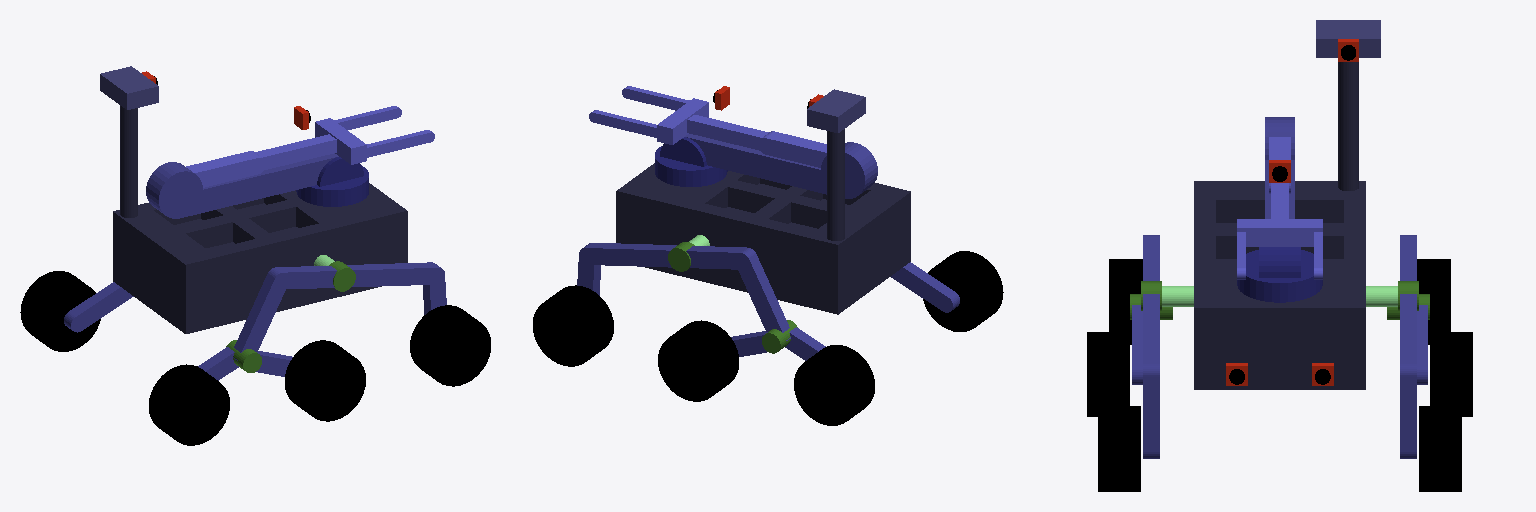
--- Render facts (derived) ---
The picture shows the robot from 3 angles, left to right: view 1: azimuth 30°, elevation 25°; view 2: azimuth 150°, elevation 25°; view 3: azimuth 270°, elevation 25°; orthographic projection.
Robot: rover — 40 links, 39 joints (9 revolute, 6 continuous, 2 prismatic, 22 fixed); root link base_link; default pose: all joints at 0.
Links seen in each view (by area): view 1: main_body, link1, wheel_mr, wheel_fr, wheel_br, wheel_bl, rocker_r_link1, link0, tower_yaw, tower_pitch, rocker_r_link2, link2 (+10 smaller); view 2: main_body, wheel_fl, wheel_bl, wheel_ml, link1, wheel_br, rocker_l_link1, link0, tower_yaw, tower_pitch, rocker_l_link2, link2 (+10 smaller); view 3: main_body, link0, wheel_fl, wheel_fr, wheel_ml, wheel_mr, tower_yaw, rocker_l_link1, rocker_r_link1, link4, tower_pitch, wheel_bl (+9 smaller).
Boxes of the visible links, x1,y1,x2,y2 form: main_body: [113, 183, 407, 333]; link1: [146, 153, 338, 218]; wheel_mr: [285, 340, 365, 421]; wheel_fr: [410, 305, 490, 386]; wheel_br: [149, 364, 229, 445]; wheel_bl: [20, 271, 100, 351]; rocker_r_link1: [268, 262, 444, 289]; link0: [296, 157, 368, 206]; tower_yaw: [120, 106, 137, 217]; tower_pitch: [100, 66, 158, 109]; rocker_r_link2: [233, 274, 285, 360]; link2: [186, 151, 265, 187]; main_body: [616, 163, 910, 314]; wheel_fl: [533, 285, 613, 366]; wheel_bl: [794, 345, 874, 425]; wheel_ml: [658, 320, 738, 401]; link1: [685, 134, 877, 198]; wheel_br: [923, 251, 1003, 331]; rocker_l_link1: [579, 243, 755, 269]; link0: [655, 137, 727, 186]; tower_yaw: [827, 129, 844, 240]; tower_pitch: [807, 89, 865, 132]; rocker_l_link2: [738, 254, 790, 340]; link2: [758, 131, 826, 167]; main_body: [1194, 181, 1365, 389]; link0: [1237, 247, 1322, 302]; wheel_fl: [1419, 406, 1461, 491]; wheel_fr: [1098, 406, 1140, 491]; wheel_ml: [1430, 332, 1472, 416]; wheel_mr: [1087, 332, 1129, 416]; tower_yaw: [1338, 62, 1358, 190]; rocker_l_link1: [1400, 235, 1416, 376]; rocker_r_link1: [1143, 235, 1159, 376]; link4: [1237, 219, 1322, 246]; tower_pitch: [1316, 20, 1380, 57]; wheel_bl: [1417, 259, 1450, 344].
Bounding box of the posed robot: 1.02 × 0.9 × 0.85 m (x, y, z).
Geometry: primitives only (box / cylinder / sphere), no mesh files.

URDF robot description (rover):
<?xml version="1.0" ?>
<!-- =================================================================================== -->
<!-- |    This document was autogenerated by xacro from rover.xacro                    | -->
<!-- |    EDITING THIS FILE BY HAND IS NOT RECOMMENDED                                 | -->
<!-- =================================================================================== -->
<robot name="rover" xmlns:xacro="http://www.ros.org/wiki/xacro">
  <gazebo>
    <plugin filename="libgazebo_ros_pkgs.so" name="gazebo_ros_control">
      <robotNamespace>rover</robotNamespace>
    </plugin>
  </gazebo>
  <!-- LINKS -->
  <!-- TODO NO SUPPORT FOR CLOSED CHAINSD UNTIL URDF 2.0 TODO -->
  <!--xacro:include filename="rocker-bogie/differential.xacro"/-->
  <!--xacro:property name="h_bogie" value=".100"/-->
  <!--xacro:property name="l_bogie" value=".305"/-->
  <!--xacro:property name="l_wheel_m" value=".160"/>
    <xacro:property name="l_wheel_b" value=".160"/-->
  <!-- DUMMY LINK -->
  <link name="base_link">
        </link>
  <joint name="base_jonit" type="fixed">
    <parent link="base_link"/>
    <child link="suspension_beam"/>
  </joint>
  <!-- MAIN LINK -->
  <link name="suspension_beam">
    <visual>
      <origin rpy="1.57075 0 0" xyz="0 0 0"/>
      <geometry>
        <cylinder length="0.6" radius="0.025"/>
      </geometry>
      <material name="light_green">
        <color rgba=".6 .9 .6 1"/>
      </material>
    </visual>
    <collision>
      <origin rpy="1.57075 0 0" xyz="0 0 0"/>
      <geometry>
        <cylinder length="0.6" radius="0.025"/>
      </geometry>
    </collision>
    <inertial>
      <mass value="3"/>
      <inertia ixx="0.005" ixy="0" ixz="0" iyy="0.005" iyz="0" izz="0.005"/>
    </inertial>
  </link>
  <gazebo reference="suspension_beam">
    <mu1> .2 </mu1>
    <mu2> .2 </mu2>
    <material> Gazebo/Gray </material>
    <selfCollide> false </selfCollide>
  </gazebo>
  <link name="rocker_l_bearing">
    <visual>
      <origin rpy="1.57075 0 0"/>
      <geometry>
        <cylinder length="0.05" radius="0.035"/>
      </geometry>
      <material name="dark_green">
        <color rgba=".3 .5 .2 1"/>
      </material>
    </visual>
    <collision>
      <origin rpy="1.57075 0 0"/>
      <geometry>
        <cylinder length="0.05" radius="0.035"/>
      </geometry>
    </collision>
    <inertial>
      <mass value="3"/>
      <inertia ixx="0.005" ixy="0" ixz="0" iyy="0.005" iyz="0" izz="0.005"/>
    </inertial>
  </link>
  <!--joint name="${name}_joint" type="revolute">
                <parent link="${parent}"/>
                <child link="${name}"/>
                <origin rpy="0 0 0" xyz="${x} ${y} ${z}"/>
                <axis xyz="0 1 0"/>
                <limit effort="10000" velocity="1" lower="-0.5" upper="0.5"/>
                <dynamics damping="2" friction="0"/>
            </joint-->
  <joint name="rocker_l_bearing_joint" type="fixed">
    <parent link="suspension_beam"/>
    <child link="rocker_l_bearing"/>
    <origin rpy="0 0 0" xyz="0 0.3 0"/>
  </joint>
  <gazebo reference="rocker_l_bearing">
    <mu1> .2 </mu1>
    <mu2> .2 </mu2>
    <material> Gazebo/Gray </material>
    <selfCollide> False </selfCollide>
  </gazebo>
  <!--transmission name="${name}_transmission">
                <type>transmission_interface/SimpleTransmission</type>
                <joint name="${name}_joint">
                    <hardwareInterface>EffortJointInterface</hardwareInterface>
                </joint>
                <actuator name="${name}_motor">
                    <hardwareInterface>EffortJointInterface</hardwareInterface>
                    <mechanicalReduction>1</mechanicalReduction>
                </actuator>
            </transmission-->
  <link name="rocker_l_link1">
    <visual>
      <origin rpy="0 0 0" xyz="0.05 0.0 0.0"/>
      <geometry>
        <box size="0.5 0.04 0.05"/>
      </geometry>
      <material name="light_blue">
        <color rgba=".3 .3 .6 1"/>
      </material>
    </visual>
    <visual>
      <origin rpy="1.57075 0 0" xyz="-0.2 0.0 0.0"/>
      <geometry>
        <cylinder length="0.04" radius="0.025"/>
      </geometry>
      <material name="light_blue">
        <color rgba=".3 .3 .6 1"/>
      </material>
    </visual>
    <visual>
      <origin rpy="1.57075 0 0" xyz="0.3 0.0 0.0"/>
      <geometry>
        <cylinder length="0.04" radius="0.025"/>
      </geometry>
      <material name="light_blue">
        <color rgba=".3 .3 .6 1"/>
      </material>
    </visual>
    <collision>
      <origin rpy="0 0 0" xyz="0.05 0.0 0.0"/>
      <geometry>
        <box size="0.5 0.04 0.05"/>
      </geometry>
    </collision>
    <collision>
      <origin rpy="1.57075 0 0" xyz="-0.2 0.0 0.0"/>
      <geometry>
        <cylinder length="0.04" radius="0.025"/>
      </geometry>
    </collision>
    <collision>
      <origin rpy="1.57075 0 0" xyz="0.3 0.0 0.0"/>
      <geometry>
        <cylinder length="0.04" radius="0.025"/>
      </geometry>
    </collision>
    <inertial>
      <origin rpy="0 0 0" xyz="0.05 0.0 0.0"/>
      <mass value="2"/>
      <inertia ixx=".003" ixy="0.000" ixz="0.000" iyy=".003" iyz="0.000" izz=".003"/>
    </inertial>
  </link>
  <gazebo reference="rocker_l_link1">
    <mu1> .2 </mu1>
    <mu2> .2 </mu2>
    <material> Gazebo/Blue </material>
    <selfCollide>False</selfCollide>
  </gazebo>
  <joint name="rocker_l_link1_joint" type="fixed">
    <parent link="rocker_l_bearing"/>
    <child link="rocker_l_link1"/>
    <origin rpy="0 0.2 0" xyz="0.0 -0.0 0.0"/>
  </joint>
  <link name="rocker_l_link2">
    <visual>
      <origin rpy="0 0 0" xyz="-0.125 0.0 0.0 "/>
      <geometry>
        <box size="0.25 0.04 0.05"/>
      </geometry>
      <material name="light_blue">
        <color rgba=".3 .3 .6 1"/>
      </material>
    </visual>
    x
            
    <collision>
      <origin rpy="0 0 0" xyz="-0.125 0.0 0.0 "/>
      <geometry>
        <box size="0.25 0.04 0.05"/>
      </geometry>
    </collision>
    <inertial>
      <origin rpy="0 0 0" xyz="-0.125 0.0 0.0"/>
      <mass value=".2"/>
      <inertia ixx=".003" ixy="0.000" ixz="0.000" iyy=".003" iyz="0.000" izz=".003"/>
    </inertial>
  </link>
  <gazebo reference="rocker_l_link2">
    <mu1> .2 </mu1>
    <mu2> .2 </mu2>
    <material> Gazebo/Blue </material>
    <selfCollide>False</selfCollide>
  </gazebo>
  <joint name="rocker_l_link2_joint" type="fixed">
    <parent link="rocker_l_link1"/>
    <child link="rocker_l_link2"/>
    <origin rpy="0 -1.28 0" xyz="-0.2 -0.0 0.0"/>
  </joint>
  <link name="rocker_l_link3">
    <visual>
      <origin rpy="0 0 0" xyz="0.095 0.0 0.0 "/>
      <geometry>
        <box size="0.19 0.04 0.05"/>
      </geometry>
      <material name="light_blue">
        <color rgba=".3 .3 .6 1"/>
      </material>
    </visual>
    <visual>
      <origin rpy="1.57075 0 0" xyz="0.19 0.0 0.0"/>
      <geometry>
        <cylinder length="0.04" radius="0.025"/>
      </geometry>
      <material name="light_blue">
        <color rgba=".3 .3 .6 1"/>
      </material>
    </visual>
    <collision>
      <origin rpy="0 0 0" xyz="0.095 0.0 0.0 "/>
      <geometry>
        <box size="0.19 0.04 0.05"/>
      </geometry>
    </collision>
    <collision>
      <origin rpy="1.57075 0 0" xyz="0.19 0.0 0.0"/>
      <geometry>
        <cylinder length="0.04" radius="0.025"/>
      </geometry>
    </collision>
    <inertial>
      <origin rpy="0 0 0" xyz="0.095 0.0 0.0 "/>
      <mass value="2"/>
      <inertia ixx=".003" ixy="0.000" ixz="0.000" iyy=".003" iyz="0.000" izz=".003"/>
    </inertial>
  </link>
  <gazebo reference="rocker_l_link3">
    <mu1> .2 </mu1>
    <mu2> .2 </mu2>
    <material> Gazebo/Blue </material>
    <selfCollide>False</selfCollide>
  </gazebo>
  <joint name="rocker_l_link3_joint" type="fixed">
    <parent link="rocker_l_link1"/>
    <child link="rocker_l_link3"/>
    <origin rpy="0 1.31 0" xyz="0.3 -0.0 0.0"/>
  </joint>
  <!--xacro:link_diff name="${name}_link_diff" parent="${name}_bearing"  x="0" y="0" z="0"/-->
  <link name="rocker_r_bearing">
    <visual>
      <origin rpy="1.57075 0 0"/>
      <geometry>
        <cylinder length="0.05" radius="0.035"/>
      </geometry>
      <material name="dark_green">
        <color rgba=".3 .5 .2 1"/>
      </material>
    </visual>
    <collision>
      <origin rpy="1.57075 0 0"/>
      <geometry>
        <cylinder length="0.05" radius="0.035"/>
      </geometry>
    </collision>
    <inertial>
      <mass value="3"/>
      <inertia ixx="0.005" ixy="0" ixz="0" iyy="0.005" iyz="0" izz="0.005"/>
    </inertial>
  </link>
  <!--joint name="${name}_joint" type="revolute">
                <parent link="${parent}"/>
                <child link="${name}"/>
                <origin rpy="0 0 0" xyz="${x} ${y} ${z}"/>
                <axis xyz="0 1 0"/>
                <limit effort="10000" velocity="1" lower="-0.5" upper="0.5"/>
                <dynamics damping="2" friction="0"/>
            </joint-->
  <joint name="rocker_r_bearing_joint" type="fixed">
    <parent link="suspension_beam"/>
    <child link="rocker_r_bearing"/>
    <origin rpy="0 0 0" xyz="0 -0.3 0"/>
  </joint>
  <gazebo reference="rocker_r_bearing">
    <mu1> .2 </mu1>
    <mu2> .2 </mu2>
    <material> Gazebo/Gray </material>
    <selfCollide> False </selfCollide>
  </gazebo>
  <!--transmission name="${name}_transmission">
                <type>transmission_interface/SimpleTransmission</type>
                <joint name="${name}_joint">
                    <hardwareInterface>EffortJointInterface</hardwareInterface>
                </joint>
                <actuator name="${name}_motor">
                    <hardwareInterface>EffortJointInterface</hardwareInterface>
                    <mechanicalReduction>1</mechanicalReduction>
                </actuator>
            </transmission-->
  <link name="rocker_r_link1">
    <visual>
      <origin rpy="0 0 0" xyz="0.05 0.0 0.0"/>
      <geometry>
        <box size="0.5 0.04 0.05"/>
      </geometry>
      <material name="light_blue">
        <color rgba=".3 .3 .6 1"/>
      </material>
    </visual>
    <visual>
      <origin rpy="1.57075 0 0" xyz="-0.2 0.0 0.0"/>
      <geometry>
        <cylinder length="0.04" radius="0.025"/>
      </geometry>
      <material name="light_blue">
        <color rgba=".3 .3 .6 1"/>
      </material>
    </visual>
    <visual>
      <origin rpy="1.57075 0 0" xyz="0.3 0.0 0.0"/>
      <geometry>
        <cylinder length="0.04" radius="0.025"/>
      </geometry>
      <material name="light_blue">
        <color rgba=".3 .3 .6 1"/>
      </material>
    </visual>
    <collision>
      <origin rpy="0 0 0" xyz="0.05 0.0 0.0"/>
      <geometry>
        <box size="0.5 0.04 0.05"/>
      </geometry>
    </collision>
    <collision>
      <origin rpy="1.57075 0 0" xyz="-0.2 0.0 0.0"/>
      <geometry>
        <cylinder length="0.04" radius="0.025"/>
      </geometry>
    </collision>
    <collision>
      <origin rpy="1.57075 0 0" xyz="0.3 0.0 0.0"/>
      <geometry>
        <cylinder length="0.04" radius="0.025"/>
      </geometry>
    </collision>
    <inertial>
      <origin rpy="0 0 0" xyz="0.05 0.0 0.0"/>
      <mass value="2"/>
      <inertia ixx=".003" ixy="0.000" ixz="0.000" iyy=".003" iyz="0.000" izz=".003"/>
    </inertial>
  </link>
  <gazebo reference="rocker_r_link1">
    <mu1> .2 </mu1>
    <mu2> .2 </mu2>
    <material> Gazebo/Blue </material>
    <selfCollide>False</selfCollide>
  </gazebo>
  <joint name="rocker_r_link1_joint" type="fixed">
    <parent link="rocker_r_bearing"/>
    <child link="rocker_r_link1"/>
    <origin rpy="0 0.2 0" xyz="0.0 -0.0 0.0"/>
  </joint>
  <link name="rocker_r_link2">
    <visual>
      <origin rpy="0 0 0" xyz="-0.125 0.0 0.0 "/>
      <geometry>
        <box size="0.25 0.04 0.05"/>
      </geometry>
      <material name="light_blue">
        <color rgba=".3 .3 .6 1"/>
      </material>
    </visual>
    x
            
    <collision>
      <origin rpy="0 0 0" xyz="-0.125 0.0 0.0 "/>
      <geometry>
        <box size="0.25 0.04 0.05"/>
      </geometry>
    </collision>
    <inertial>
      <origin rpy="0 0 0" xyz="-0.125 0.0 0.0"/>
      <mass value=".2"/>
      <inertia ixx=".003" ixy="0.000" ixz="0.000" iyy=".003" iyz="0.000" izz=".003"/>
    </inertial>
  </link>
  <gazebo reference="rocker_r_link2">
    <mu1> .2 </mu1>
    <mu2> .2 </mu2>
    <material> Gazebo/Blue </material>
    <selfCollide>False</selfCollide>
  </gazebo>
  <joint name="rocker_r_link2_joint" type="fixed">
    <parent link="rocker_r_link1"/>
    <child link="rocker_r_link2"/>
    <origin rpy="0 -1.28 0" xyz="-0.2 -0.0 0.0"/>
  </joint>
  <link name="rocker_r_link3">
    <visual>
      <origin rpy="0 0 0" xyz="0.095 0.0 0.0 "/>
      <geometry>
        <box size="0.19 0.04 0.05"/>
      </geometry>
      <material name="light_blue">
        <color rgba=".3 .3 .6 1"/>
      </material>
    </visual>
    <visual>
      <origin rpy="1.57075 0 0" xyz="0.19 0.0 0.0"/>
      <geometry>
        <cylinder length="0.04" radius="0.025"/>
      </geometry>
      <material name="light_blue">
        <color rgba=".3 .3 .6 1"/>
      </material>
    </visual>
    <collision>
      <origin rpy="0 0 0" xyz="0.095 0.0 0.0 "/>
      <geometry>
        <box size="0.19 0.04 0.05"/>
      </geometry>
    </collision>
    <collision>
      <origin rpy="1.57075 0 0" xyz="0.19 0.0 0.0"/>
      <geometry>
        <cylinder length="0.04" radius="0.025"/>
      </geometry>
    </collision>
    <inertial>
      <origin rpy="0 0 0" xyz="0.095 0.0 0.0 "/>
      <mass value="2"/>
      <inertia ixx=".003" ixy="0.000" ixz="0.000" iyy=".003" iyz="0.000" izz=".003"/>
    </inertial>
  </link>
  <gazebo reference="rocker_r_link3">
    <mu1> .2 </mu1>
    <mu2> .2 </mu2>
    <material> Gazebo/Blue </material>
    <selfCollide>False</selfCollide>
  </gazebo>
  <joint name="rocker_r_link3_joint" type="fixed">
    <parent link="rocker_r_link1"/>
    <child link="rocker_r_link3"/>
    <origin rpy="0 1.31 0" xyz="0.3 -0.0 0.0"/>
  </joint>
  <!--xacro:link_diff name="${name}_link_diff" parent="${name}_bearing"  x="0" y="0" z="0"/-->
  <link name="bogie_l_bearing">
    <visual>
      <origin rpy="1.57075 0 0"/>
      <geometry>
        <cylinder length="0.1" radius="0.03"/>
      </geometry>
      <material name="dark_green">
        <color rgba=".3 .5 .2 1"/>
      </material>
    </visual>
    <collision>
      <origin rpy="1.57075 0 0"/>
      <geometry>
        <cylinder length="0.1" radius="0.03"/>
      </geometry>
    </collision>
    <inertial>
      <mass value="3"/>
      <inertia ixx="0.005" ixy="0" ixz="0" iyy="0.005" iyz="0" izz="0.005"/>
    </inertial>
  </link>
  <joint name="bogie_l_bearing_joint" type="revolute">
    <parent link="rocker_l_bearing"/>
    <child link="bogie_l_bearing"/>
    <origin rpy="0 0 0" xyz="-0.305 0 -0.17"/>
    <axis xyz="0 1 0"/>
    <limit effort="1" lower="-0.5" upper="0.5" velocity="1"/>
    <dynamics damping="1"/>
  </joint>
  <gazebo reference="bogie_l_bearing">
    <mu1> .2 </mu1>
    <mu2> .2 </mu2>
    <material> Gazebo/Gray </material>
    <selfCollide> False </selfCollide>
  </gazebo>
  <transmission name="bogie_l_bearing_transmission">
    <type>transmission_interface/SimpleTransmission</type>
    <joint name="bogie_l_bearing_joint">
      <hardwareInterface>EffortJointInterface</hardwareInterface>
    </joint>
    <actuator name="bogie_l_bearing_motor">
      <hardwareInterface>EffortJointInterface</hardwareInterface>
      <mechanicalReduction>1</mechanicalReduction>
    </actuator>
  </transmission>
  <link name="bogie_l_link1">
    <visual>
      <origin rpy="0 0 0" xyz="0.1075 0.025 0.0"/>
      <geometry>
        <box size="0.215 0.04 0.05"/>
      </geometry>
      <material name="light_blue">
        <color rgba=".3 .3 .6 1"/>
      </material>
    </visual>
    <visual>
      <origin rpy="1.57075 0 0" xyz="0.215 0.025 0.0"/>
      <geometry>
        <cylinder length="0.04" radius="0.025"/>
      </geometry>
      <material name="light_blue">
        <color rgba=".3 .3 .6 1"/>
      </material>
    </visual>
    <collision>
      <origin rpy="0 0 0" xyz="0.1075 0.025 0.0"/>
      <geometry>
        <box size="0.215 0.04 0.05"/>
      </geometry>
    </collision>
    <collision>
      <origin rpy="1.57075 0 0" xyz="0.215 0.025 0.0"/>
      <geometry>
        <cylinder length="0.04" radius="0.025"/>
      </geometry>
    </collision>
    <inertial>
      <origin rpy="0 0 0" xyz="0.1075 0.025 0.0"/>
      <mass value="2"/>
      <inertia ixx=".003" ixy="0.000" ixz="0.000" iyy=".003" iyz="0.000" izz=".003"/>
    </inertial>
  </link>
  <gazebo reference="bogie_l_link1">
    <mu1> .2 </mu1>
    <mu2> .2 </mu2>
    <material> Gazebo/Blue </material>
    <selfCollide>False</selfCollide>
  </gazebo>
  <joint name="bogie_l_link1_joint" type="fixed">
    <parent link="bogie_l_bearing"/>
    <child link="bogie_l_link1"/>
    <origin rpy="0 0.38 0" xyz="0.0 -0.0 0.0"/>
  </joint>
  <link name="bogie_l_link2">
    <visual>
      <origin rpy="0 0 0" xyz="-0.1075 -0.025 0.0"/>
      <geometry>
        <box size="0.215 0.04 0.05"/>
      </geometry>
      <material name="light_blue">
        <color rgba=".3 .3 .6 1"/>
      </material>
    </visual>
    <visual>
      <origin rpy="1.57075 0 0" xyz="-0.215 -0.025 0.0"/>
      <geometry>
        <cylinder length="0.04" radius="0.025"/>
      </geometry>
      <material name="light_blue">
        <color rgba=".3 .3 .6 1"/>
      </material>
    </visual>
    <collision>
      <origin rpy="0 0 0" xyz="-0.1075 -0.025 0.0"/>
      <geometry>
        <box size="0.215 0.04 0.05"/>
      </geometry>
    </collision>
    <collision>
      <origin rpy="1.57075 0 0" xyz="-0.215 -0.025 0.0"/>
      <geometry>
        <cylinder length="0.04" radius="0.025"/>
      </geometry>
    </collision>
    <inertial>
      <origin rpy="0 0 0" xyz="-0.1075 -0.025 0.0"/>
      <mass value="2"/>
      <inertia ixx=".003" ixy="0.000" ixz="0.000" iyy=".003" iyz="0.000" izz=".003"/>
    </inertial>
  </link>
  <gazebo reference="bogie_l_link2">
    <mu1> .2 </mu1>
    <mu2> .2 </mu2>
    <material> Gazebo/Blue </material>
    <selfCollide>False</selfCollide>
  </gazebo>
  <joint name="bogie_l_link2_joint" type="fixed">
    <parent link="bogie_l_bearing"/>
    <child link="bogie_l_link2"/>
    <origin rpy="0 -0.38 0" xyz="0.0 -0.0 0.0"/>
  </joint>
  <link name="bogie_r_bearing">
    <visual>
      <origin rpy="1.57075 0 0"/>
      <geometry>
        <cylinder length="0.1" radius="0.03"/>
      </geometry>
      <material name="dark_green">
        <color rgba=".3 .5 .2 1"/>
      </material>
    </visual>
    <collision>
      <origin rpy="1.57075 0 0"/>
      <geometry>
        <cylinder length="0.1" radius="0.03"/>
      </geometry>
    </collision>
    <inertial>
      <mass value="3"/>
      <inertia ixx="0.005" ixy="0" ixz="0" iyy="0.005" iyz="0" izz="0.005"/>
    </inertial>
  </link>
  <joint name="bogie_r_bearing_joint" type="revolute">
    <parent link="rocker_r_bearing"/>
    <child link="bogie_r_bearing"/>
    <origin rpy="0 0 0" xyz="-0.305 0 -0.17"/>
    <axis xyz="0 1 0"/>
    <limit effort="1" lower="-0.5" upper="0.5" velocity="1"/>
    <dynamics damping="1"/>
  </joint>
  <gazebo reference="bogie_r_bearing">
    <mu1> .2 </mu1>
    <mu2> .2 </mu2>
    <material> Gazebo/Gray </material>
    <selfCollide> False </selfCollide>
  </gazebo>
  <transmission name="bogie_r_bearing_transmission">
    <type>transmission_interface/SimpleTransmission</type>
    <joint name="bogie_r_bearing_joint">
      <hardwareInterface>EffortJointInterface</hardwareInterface>
    </joint>
    <actuator name="bogie_r_bearing_motor">
      <hardwareInterface>EffortJointInterface</hardwareInterface>
      <mechanicalReduction>1</mechanicalReduction>
    </actuator>
  </transmission>
  <link name="bogie_r_link1">
    <visual>
      <origin rpy="0 0 0" xyz="0.1075 -0.025 0.0"/>
      <geometry>
        <box size="0.215 0.04 0.05"/>
      </geometry>
      <material name="light_blue">
        <color rgba=".3 .3 .6 1"/>
      </material>
    </visual>
    <visual>
      <origin rpy="1.57075 0 0" xyz="0.215 -0.025 0.0"/>
      <geometry>
        <cylinder length="0.04" radius="0.025"/>
      </geometry>
      <material name="light_blue">
        <color rgba=".3 .3 .6 1"/>
      </material>
    </visual>
    <collision>
      <origin rpy="0 0 0" xyz="0.1075 -0.025 0.0"/>
      <geometry>
        <box size="0.215 0.04 0.05"/>
      </geometry>
    </collision>
    <collision>
      <origin rpy="1.57075 0 0" xyz="0.215 -0.025 0.0"/>
      <geometry>
        <cylinder length="0.04" radius="0.025"/>
      </geometry>
    </collision>
    <inertial>
      <origin rpy="0 0 0" xyz="0.1075 -0.025 0.0"/>
      <mass value="2"/>
      <inertia ixx=".003" ixy="0.000" ixz="0.000" iyy=".003" iyz="0.000" izz=".003"/>
    </inertial>
  </link>
  <gazebo reference="bogie_r_link1">
    <mu1> .2 </mu1>
    <mu2> .2 </mu2>
    <material> Gazebo/Blue </material>
    <selfCollide>False</selfCollide>
  </gazebo>
  <joint name="bogie_r_link1_joint" type="fixed">
    <parent link="bogie_r_bearing"/>
    <child link="bogie_r_link1"/>
    <origin rpy="0 0.38 0" xyz="0.0 -0.0 0.0"/>
  </joint>
  <link name="bogie_r_link2">
    <visual>
      <origin rpy="0 0 0" xyz="-0.1075 0.025 0.0"/>
      <geometry>
        <box size="0.215 0.04 0.05"/>
      </geometry>
      <material name="light_blue">
        <color rgba=".3 .3 .6 1"/>
      </material>
    </visual>
    <visual>
      <origin rpy="1.57075 0 0" xyz="-0.215 0.025 0.0"/>
      <geometry>
        <cylinder length="0.04" radius="0.025"/>
      </geometry>
      <material name="light_blue">
        <color rgba=".3 .3 .6 1"/>
      </material>
    </visual>
    <collision>
      <origin rpy="0 0 0" xyz="-0.1075 0.025 0.0"/>
      <geometry>
        <box size="0.215 0.04 0.05"/>
      </geometry>
    </collision>
    <collision>
      <origin rpy="1.57075 0 0" xyz="-0.215 0.025 0.0"/>
      <geometry>
        <cylinder length="0.04" radius="0.025"/>
      </geometry>
    </collision>
    <inertial>
      <origin rpy="0 0 0" xyz="-0.1075 0.025 0.0"/>
      <mass value="2"/>
      <inertia ixx=".003" ixy="0.000" ixz="0.000" iyy=".003" iyz="0.000" izz=".003"/>
    </inertial>
  </link>
  <gazebo reference="bogie_r_link2">
    <mu1> .2 </mu1>
    <mu2> .2 </mu2>
    <material> Gazebo/Blue </material>
    <selfCollide>False</selfCollide>
  </gazebo>
  <joint name="bogie_r_link2_joint" type="fixed">
    <parent link="bogie_r_bearing"/>
    <child link="bogie_r_link2"/>
    <origin rpy="0 -0.38 0" xyz="0.0 -0.0 0.0"/>
  </joint>
  <!-- WHEELS -->
  <link name="wheel_fl">
    <visual>
      <origin rpy="1.57075 0 0"/>
      <geometry>
        <cylinder length="0.1" radius="0.1"/>
      </geometry>
      <material name="black">
        <color rgba=".0 .0 .0 1"/>
      </material>
    </visual>
    <collision>
      <origin rpy="1.57075 0 0"/>
      <geometry>
        <cylinder length="0.1" radius="0.1"/>
      </geometry>
    </collision>
    <inertial>
      <mass value="3"/>
      <inertia ixx=".03" ixy="0.000" ixz="0.000" iyy=".03" iyz="0.000" izz=".03"/>
    </inertial>
  </link>
  <joint name="wheel_fl_joint" type="continuous">
    <parent link="rocker_l_bearing"/>
    <child link="wheel_fl"/>
    <origin rpy="0 0 0" xyz="0.305 0.075 -0.25"/>
    <axis xyz="0 1 0"/>
    <limit effort="100" velocity="10"/>
    <dynamics damping="1"/>
  </joint>
  <gazebo reference="wheel_fl">
    <mu1> 1 </mu1>
    <mu2> 1 </mu2>
    <!--fdir1> 0 1 0 </fdir1-->
    <material> Gazebo/Black </material>
    <selfCollide> true </selfCollide>
  </gazebo>
  <gazebo>
    <plugin filename="libJointLimiter.so" name="wheel_fl_joint_limiter">
      <joint>wheel_fl_joint</joint>
      <topic>/rover/wheel_fl_velocity_controller</topic>
      <lower>-9999999</lower>
      <upper>9999999</upper>
    </plugin>
  </gazebo>
  <gazebo>
    <plugin filename="libControllerPID.so" name="wheel_fl_controller">
      <joint>wheel_fl_joint</joint>
      <topic>/rover/wheel_fl_velocity_controller</topic>
      <Kp>5</Kp>
      <Ki>0.5</Ki>
      <Kd>0.4</Kd>
      <limit>100</limit>
    </plugin>
  </gazebo>
  <!--transmission name="${name}_transmission">
            <type>transmission_interface/SimpleTransmission</type>
            <joint name="${name}_wheel_joint">
                <hardwareInterface>EffortJointInterface</hardwareInterface>
            </joint>
            <actuator name="${name}_wheel_motor">
                <hardwareInterface>EffortJointInterface</hardwareInterface>
                <mechanicalReduction>1</mechanicalReduction>
            </actuator>
        </transmission-->
  <link name="wheel_fr">
    <visual>
      <origin rpy="1.57075 0 0"/>
      <geometry>
        <cylinder length="0.1" radius="0.1"/>
      </geometry>
      <material name="black">
        <color rgba=".0 .0 .0 1"/>
      </material>
    </visual>
    <collision>
      <origin rpy="1.57075 0 0"/>
      <geometry>
        <cylinder length="0.1" radius="0.1"/>
      </geometry>
    </collision>
    <inertial>
      <mass value="3"/>
      <inertia ixx=".03" ixy="0.000" ixz="0.000" iyy=".03" iyz="0.000" izz=".03"/>
    </inertial>
  </link>
  <joint name="wheel_fr_joint" type="continuous">
    <parent link="rocker_r_bearing"/>
    <child link="wheel_fr"/>
    <origin rpy="0 0 0" xyz="0.305 -0.075 -0.25"/>
    <axis xyz="0 1 0"/>
    <limit effort="100" velocity="10"/>
    <dynamics damping="1"/>
  </joint>
  <gazebo reference="wheel_fr">
    <mu1> 1 </mu1>
    <mu2> 1 </mu2>
    <!--fdir1> 0 1 0 </fdir1-->
    <material> Gazebo/Black </material>
    <selfCollide> true </selfCollide>
  </gazebo>
  <gazebo>
    <plugin filename="libJointLimiter.so" name="wheel_fr_joint_limiter">
      <joint>wheel_fr_joint</joint>
      <topic>/rover/wheel_fr_velocity_controller</topic>
      <lower>-9999999</lower>
      <upper>9999999</upper>
    </plugin>
  </gazebo>
  <gazebo>
    <plugin filename="libControllerPID.so" name="wheel_fr_controller">
      <joint>wheel_fr_joint</joint>
      <topic>/rover/wheel_fr_velocity_controller</topic>
      <Kp>5</Kp>
      <Ki>0.5</Ki>
      <Kd>0.4</Kd>
      <limit>100</limit>
    </plugin>
  </gazebo>
  <!--transmission name="${name}_transmission">
            <type>transmission_interface/SimpleTransmission</type>
            <joint name="${name}_wheel_joint">
                <hardwareInterface>EffortJointInterface</hardwareInterface>
            </joint>
            <actuator name="${name}_wheel_motor">
                <hardwareInterface>EffortJointInterface</hardwareInterface>
                <mechanicalReduction>1</mechanicalReduction>
            </actuator>
        </transmission-->
  <link name="wheel_ml">
    <visual>
      <origin rpy="1.57075 0 0"/>
      <geometry>
        <cylinder length="0.1" radius="0.1"/>
      </geometry>
      <material name="black">
        <color rgba=".0 .0 .0 1"/>
      </material>
    </visual>
    <collision>
      <origin rpy="1.57075 0 0"/>
      <geometry>
        <cylinder length="0.1" radius="0.1"/>
      </geometry>
    </collision>
    <inertial>
      <mass value="3"/>
      <inertia ixx=".03" ixy="0.000" ixz="0.000" iyy=".03" iyz="0.000" izz=".03"/>
    </inertial>
  </link>
  <joint name="wheel_ml_joint" type="continuous">
    <parent link="bogie_l_bearing"/>
    <child link="wheel_ml"/>
    <origin rpy="0 0 0" xyz="0.2 0.1 -0.08"/>
    <axis xyz="0 1 0"/>
    <limit effort="100" velocity="10"/>
    <dynamics damping="1"/>
  </joint>
  <gazebo reference="wheel_ml">
    <mu1> 1 </mu1>
    <mu2> 1 </mu2>
    <!--fdir1> 0 1 0 </fdir1-->
    <material> Gazebo/Black </material>
    <selfCollide> true </selfCollide>
  </gazebo>
  <gazebo>
    <plugin filename="libJointLimiter.so" name="wheel_ml_joint_limiter">
      <joint>wheel_ml_joint</joint>
      <topic>/rover/wheel_ml_velocity_controller</topic>
      <lower>-9999999</lower>
      <upper>9999999</upper>
    </plugin>
  </gazebo>
  <gazebo>
    <plugin filename="libControllerPID.so" name="wheel_ml_controller">
      <joint>wheel_ml_joint</joint>
      <topic>/rover/wheel_ml_velocity_controller</topic>
      <Kp>5</Kp>
      <Ki>0.5</Ki>
      <Kd>0.4</Kd>
      <limit>100</limit>
    </plugin>
  </gazebo>
  <!--transmission name="${name}_transmission">
            <type>transmission_interface/SimpleTransmission</type>
            <joint name="${name}_wheel_joint">
                <hardwareInterface>EffortJointInterface</hardwareInterface>
            </joint>
            <actuator name="${name}_wheel_motor">
                <hardwareInterface>EffortJointInterface</hardwareInterface>
                <mechanicalReduction>1</mechanicalReduction>
            </actuator>
        </transmission-->
  <link name="wheel_mr">
    <visual>
      <origin rpy="1.57075 0 0"/>
      <geometry>
        <cylinder length="0.1" radius="0.1"/>
      </geometry>
      <material name="black">
        <color rgba=".0 .0 .0 1"/>
      </material>
    </visual>
    <collision>
      <origin rpy="1.57075 0 0"/>
      <geometry>
        <cylinder length="0.1" radius="0.1"/>
      </geometry>
    </collision>
    <inertial>
      <mass value="3"/>
      <inertia ixx=".03" ixy="0.000" ixz="0.000" iyy=".03" iyz="0.000" izz=".03"/>
    </inertial>
  </link>
  <joint name="wheel_mr_joint" type="continuous">
    <parent link="bogie_r_bearing"/>
    <child link="wheel_mr"/>
    <origin rpy="0 0 0" xyz="0.2 -0.1 -0.08"/>
    <axis xyz="0 1 0"/>
    <limit effort="100" velocity="10"/>
    <dynamics damping="1"/>
  </joint>
  <gazebo reference="wheel_mr">
    <mu1> 1 </mu1>
    <mu2> 1 </mu2>
    <!--fdir1> 0 1 0 </fdir1-->
    <material> Gazebo/Black </material>
    <selfCollide> true </selfCollide>
  </gazebo>
  <gazebo>
    <plugin filename="libJointLimiter.so" name="wheel_mr_joint_limiter">
      <joint>wheel_mr_joint</joint>
      <topic>/rover/wheel_mr_velocity_controller</topic>
      <lower>-9999999</lower>
      <upper>9999999</upper>
    </plugin>
  </gazebo>
  <gazebo>
    <plugin filename="libControllerPID.so" name="wheel_mr_controller">
      <joint>wheel_mr_joint</joint>
      <topic>/rover/wheel_mr_velocity_controller</topic>
      <Kp>5</Kp>
      <Ki>0.5</Ki>
      <Kd>0.4</Kd>
      <limit>100</limit>
    </plugin>
  </gazebo>
  <!--transmission name="${name}_transmission">
            <type>transmission_interface/SimpleTransmission</type>
            <joint name="${name}_wheel_joint">
                <hardwareInterface>EffortJointInterface</hardwareInterface>
            </joint>
            <actuator name="${name}_wheel_motor">
                <hardwareInterface>EffortJointInterface</hardwareInterface>
                <mechanicalReduction>1</mechanicalReduction>
            </actuator>
        </transmission-->
  <link name="wheel_bl">
    <visual>
      <origin rpy="1.57075 0 0"/>
      <geometry>
        <cylinder length="0.1" radius="0.1"/>
      </geometry>
      <material name="black">
        <color rgba=".0 .0 .0 1"/>
      </material>
    </visual>
    <collision>
      <origin rpy="1.57075 0 0"/>
      <geometry>
        <cylinder length="0.1" radius="0.1"/>
      </geometry>
    </collision>
    <inertial>
      <mass value="3"/>
      <inertia ixx=".03" ixy="0.000" ixz="0.000" iyy=".03" iyz="0.000" izz=".03"/>
    </inertial>
  </link>
  <joint name="wheel_bl_joint" type="continuous">
    <parent link="bogie_l_bearing"/>
    <child link="wheel_bl"/>
    <origin rpy="0 0 0" xyz="-0.2 0.05 -0.08"/>
    <axis xyz="0 1 0"/>
    <limit effort="100" velocity="10"/>
    <dynamics damping="1"/>
  </joint>
  <gazebo reference="wheel_bl">
    <mu1> 1 </mu1>
    <mu2> 1 </mu2>
    <!--fdir1> 0 1 0 </fdir1-->
    <material> Gazebo/Black </material>
    <selfCollide> true </selfCollide>
  </gazebo>
  <gazebo>
    <plugin filename="libJointLimiter.so" name="wheel_bl_joint_limiter">
      <joint>wheel_bl_joint</joint>
      <topic>/rover/wheel_bl_velocity_controller</topic>
      <lower>-9999999</lower>
      <upper>9999999</upper>
    </plugin>
  </gazebo>
  <gazebo>
    <plugin filename="libControllerPID.so" name="wheel_bl_controller">
      <joint>wheel_bl_joint</joint>
      <topic>/rover/wheel_bl_velocity_controller</topic>
      <Kp>5</Kp>
      <Ki>0.5</Ki>
      <Kd>0.4</Kd>
      <limit>100</limit>
    </plugin>
  </gazebo>
  <!--transmission name="${name}_transmission">
            <type>transmission_interface/SimpleTransmission</type>
            <joint name="${name}_wheel_joint">
                <hardwareInterface>EffortJointInterface</hardwareInterface>
            </joint>
            <actuator name="${name}_wheel_motor">
                <hardwareInterface>EffortJointInterface</hardwareInterface>
                <mechanicalReduction>1</mechanicalReduction>
            </actuator>
        </transmission-->
  <link name="wheel_br">
    <visual>
      <origin rpy="1.57075 0 0"/>
      <geometry>
        <cylinder length="0.1" radius="0.1"/>
      </geometry>
      <material name="black">
        <color rgba=".0 .0 .0 1"/>
      </material>
    </visual>
    <collision>
      <origin rpy="1.57075 0 0"/>
      <geometry>
        <cylinder length="0.1" radius="0.1"/>
      </geometry>
    </collision>
    <inertial>
      <mass value="3"/>
      <inertia ixx=".03" ixy="0.000" ixz="0.000" iyy=".03" iyz="0.000" izz=".03"/>
    </inertial>
  </link>
  <joint name="wheel_br_joint" type="continuous">
    <parent link="bogie_r_bearing"/>
    <child link="wheel_br"/>
    <origin rpy="0 0 0" xyz="-0.2 -0.05 -0.08"/>
    <axis xyz="0 1 0"/>
    <limit effort="100" velocity="10"/>
    <dynamics damping="1"/>
  </joint>
  <gazebo reference="wheel_br">
    <mu1> 1 </mu1>
    <mu2> 1 </mu2>
    <!--fdir1> 0 1 0 </fdir1-->
    <material> Gazebo/Black </material>
    <selfCollide> true </selfCollide>
  </gazebo>
  <gazebo>
    <plugin filename="libJointLimiter.so" name="wheel_br_joint_limiter">
      <joint>wheel_br_joint</joint>
      <topic>/rover/wheel_br_velocity_controller</topic>
      <lower>-9999999</lower>
      <upper>9999999</upper>
    </plugin>
  </gazebo>
  <gazebo>
    <plugin filename="libControllerPID.so" name="wheel_br_controller">
      <joint>wheel_br_joint</joint>
      <topic>/rover/wheel_br_velocity_controller</topic>
      <Kp>5</Kp>
      <Ki>0.5</Ki>
      <Kd>0.4</Kd>
      <limit>100</limit>
    </plugin>
  </gazebo>
  <!--transmission name="${name}_transmission">
            <type>transmission_interface/SimpleTransmission</type>
            <joint name="${name}_wheel_joint">
                <hardwareInterface>EffortJointInterface</hardwareInterface>
            </joint>
            <actuator name="${name}_wheel_motor">
                <hardwareInterface>EffortJointInterface</hardwareInterface>
                <mechanicalReduction>1</mechanicalReduction>
            </actuator>
        </transmission-->
  <!-- MY DIFFERENTIAL PLUGIN -->
  <!--gazebo>
        <plugin name="differential" filename="libDifferential.so">
            <leftJoint>rocker_l_bearing_joint</leftJoint>
            <rightJoint>rocker_r_bearing_joint</rightJoint>
        </plugin>
    </gazebo-->
  <!--gazebo>
        <plugin name="differential_pid" filename="libDifferentialPID.so">
            <leftJoint>rocker_l_bearing_joint</leftJoint>
            <rightJoint>rocker_r_bearing_joint</rightJoint>
            <topic>/rover/differential_pid</topic>
            <Kp>0</Kp>
            <Ki>0</Ki>
            <Kd>0</Kd>
            <limit>10000</limit>
        </plugin>
    </gazebo-->
  <!-- PROPERTIES -->
  <!-- MAIN LINK -->
  <link name="main_body">
    <visual>
      <origin rpy="0 0 0" xyz="-0.08 0 -0.04"/>
      <geometry>
        <box size="0.7 0.4 0.15"/>
      </geometry>
      <material name="dark_gray">
        <color rgba=".2 .2 .3 1"/>
      </material>
    </visual>
    <collision>
      <origin rpy="0 0 0" xyz="-0.08 0 -0.04"/>
      <geometry>
        <box size="0.7 0.4 0.15"/>
      </geometry>
    </collision>
    <!-- BOXES FOR STONES -->
    <visual>
      <origin rpy="0 0 0" xyz="0.145 0 0.045"/>
      <geometry>
        <box size=".250 0.4 .100"/>
      </geometry>
      <material name="dark_gray">
        <color rgba=".2 .2 .3 1"/>
      </material>
    </visual>
    <collision>
      <origin rpy="0 0 0" xyz="0.145 0 0.045"/>
      <geometry>
        <box size=".250 0.4 .100"/>
      </geometry>
    </collision>
    <visual>
      <origin rpy="0 0 0" xyz="-0.38 0 0.045"/>
      <geometry>
        <box size=".100 0.4 .100"/>
      </geometry>
      <material name="dark_gray">
        <color rgba=".2 .2 .3 1"/>
      </material>
    </visual>
    <collision>
      <origin rpy="0 0 0" xyz="-0.38 0 0.045"/>
      <geometry>
        <box size=".100 0.4 .100"/>
      </geometry>
    </collision>
    <visual>
      <!-- dlugosc przergody - 150 mm -->
      <origin rpy="0 0 0" xyz="-0.155 0 0.045"/>
      <geometry>
        <box size=".050 0.4 .100"/>
      </geometry>
      <material name="dark_gray">
        <color rgba=".2 .2 .3 1"/>
      </material>
    </visual>
    <collision>
      <!-- dlugosc przergody - 150 mm -->
      <origin rpy="0 0 0" xyz="-0.155 0 0.045"/>
      <geometry>
        <box size=".050 0.4 .100"/>
      </geometry>
    </collision>
    <visual>
      <origin rpy="0 0 0" xyz="-0.08 0.175 0.045"/>
      <geometry>
        <box size="0.7 .050 .100"/>
      </geometry>
      <material name="dark_gray">
        <color rgba=".2 .2 .3 1"/>
      </material>
    </visual>
    <collision>
      <origin rpy="0 0 0" xyz="-0.08 0.175 0.045"/>
      <geometry>
        <box size="0.7 .050 .100"/>
      </geometry>
    </collision>
    <visual>
      <origin rpy="0 0 0" xyz="-0.08 0.0 0.045"/>
      <geometry>
        <box size="0.7 .050 .100"/>
      </geometry>
      <material name="dark_gray">
        <color rgba=".2 .2 .3 1"/>
      </material>
    </visual>
    <collision>
      <origin rpy="0 0 0" xyz="-0.08 0.0 0.045"/>
      <geometry>
        <box size="0.7 .050 .100"/>
      </geometry>
    </collision>
    <visual>
      <origin rpy="0 0 0" xyz="-0.08 -0.175 0.045"/>
      <geometry>
        <box size="0.7 .050 .100"/>
      </geometry>
      <material name="dark_gray">
        <color rgba=".2 .2 .3 1"/>
      </material>
    </visual>
    <collision>
      <origin rpy="0 0 0" xyz="-0.08 -0.175 0.045"/>
      <geometry>
        <box size="0.7 .050 .100"/>
      </geometry>
    </collision>
    <inertial>
      <origin rpy="0 0 0" xyz="0 0 -.2"/>
      <mass value="40"/>
      <inertia ixx=".1" ixy="0.001" ixz="0.001" iyy=".1" iyz="0.001" izz=".1"/>
    </inertial>
  </link>
  <gazebo reference="main_body">
    <mu1> .2 </mu1>
    <mu2> .2 </mu2>
    <material> Gazebo/Gray</material>
    <selfCollide> true </selfCollide>
  </gazebo>
  <joint name="main_body_joint" type="fixed">
    <parent link="suspension_beam"/>
    <child link="main_body"/>
    <origin rpy="0 0 0" xyz="0 0 0"/>
    <!--axis xyz="0 1 0"/>
            <limit effort="100" velocity="1" lower="-.4" upper=".4"/>
            <dynamics damping="999" friction="999"/-->
  </joint>
  <gazebo reference="main_body_joint">
    <stopCfm>0.8</stopCfm>
    <stopErp>0.5</stopErp>
    <provideFeedback>true</provideFeedback>
    <implicitSpringDamper>true</implicitSpringDamper>
    <fudgeFactor>0.0</fudgeFactor>
  </gazebo>
  <link name="tower_yaw">
    <visual>
      <geometry>
        <cylinder length="0.4" radius="0.025"/>
      </geometry>
      <material name="dark_gray"/>
    </visual>
    <collision>
      <geometry>
        <cylinder length="0.4" radius="0.025"/>
      </geometry>
    </collision>
    <inertial>
      <mass value="1"/>
      <inertia ixx="0.001" ixy="0" ixz="0" iyy="0.001" iyz="0" izz="0.01"/>
    </inertial>
  </link>
  <joint name="tower_yaw_joint" type="revolute">
    <parent link="main_body"/>
    <child link="tower_yaw"/>
    <origin rpy="0 0 0" xyz="-0.4 0.16 0.275"/>
    <axis xyz="0 0 -1"/>
    <limit effort="100" lower="-3.14" upper="3.14" velocity="10"/>
    <dynamics damping="1"/>
  </joint>
  <gazebo reference="tower_yaw">
    <mu1> .2 </mu1>
    <mu2> .2 </mu2>
    <material> Gazebo/Gray </material>
    <selfCollide> true </selfCollide>
  </gazebo>
  <gazebo>
    <plugin filename="libJointLimiter.so" name="tower_yaw_joint_limiter">
      <joint>tower_yaw_joint</joint>
      <topic>/rover/tower_yaw_velocity_controller</topic>
      <lower>-3.14</lower>
      <upper>3.14</upper>
    </plugin>
  </gazebo>
  <gazebo>
    <plugin filename="libControllerPID.so" name="tower_yaw_controller">
      <joint>tower_yaw_joint</joint>
      <topic>/rover/tower_yaw_velocity_controller</topic>
      <Kp>1</Kp>
      <Ki>0.7</Ki>
      <Kd>0.4</Kd>
    </plugin>
  </gazebo>
  <!--transmission name="${name}_transmission">
                <type>transmission_interface/SimpleTransmission</type>
                <joint name="${name}_joint">
                    <hardwareInterface>EffortJointInterface</hardwareInterface>
                </joint>
                <actuator name="${name}_motor">
                    <hardwareInterface>EffortJointInterface</hardwareInterface>
                    <mechanicalReduction>1</mechanicalReduction>
                </actuator>
            </transmission-->
  <link name="tower_pitch">
    <visual>
      <geometry>
        <box size="0.1 0.15 0.05"/>
      </geometry>
      <material name="light_gray">
        <color rgba=".3 .3 .5 1"/>
      </material>
    </visual>
    <collision>
      <geometry>
        <box size="0.1 0.15 0.05"/>
      </geometry>
    </collision>
    <inertial>
      <mass value="1"/>
      <inertia ixx="0.001" ixy="0" ixz="0" iyy="0.001" iyz="0" izz="0.001"/>
    </inertial>
  </link>
  <joint name="tower_pitch_joint" type="revolute">
    <parent link="tower_yaw"/>
    <child link="tower_pitch"/>
    <origin rpy="0 0 0" xyz="0 0 0.2"/>
    <axis xyz="0 1 0"/>
    <limit effort="100" lower="-0.785" upper="0.785" velocity="10"/>
    <dynamics damping="1"/>
  </joint>
  <gazebo reference="tower_pitch">
    <mu1> .2 </mu1>
    <mu2> .2 </mu2>
    <material> Gazebo/Yellow </material>
    <selfCollide> true </selfCollide>
  </gazebo>
  <gazebo>
    <plugin filename="libJointLimiter.so" name="tower_pitch_joint_limiter">
      <joint>tower_pitch_joint</joint>
      <topic>/rover/tower_pitch_velocity_controller</topic>
      <lower>-0.785</lower>
      <upper>0.785</upper>
    </plugin>
  </gazebo>
  <gazebo>
    <plugin filename="libControllerPID.so" name="tower_pitch_controller">
      <joint>tower_pitch_joint</joint>
      <topic>/rover/tower_pitch_velocity_controller</topic>
      <Kp>0.8</Kp>
      <Ki>0.25</Ki>
      <Kd>0.1</Kd>
    </plugin>
  </gazebo>
  <!--transmission name="${name}_transmission">
                <type>transmission_interface/SimpleTransmission</type>
                <joint name="${name}_joint">
                    <hardwareInterface>EffortJointInterface</hardwareInterface>
                </joint>
                <actuator name="${name}_motor">
                    <hardwareInterface>EffortJointInterface</hardwareInterface>
                    <mechanicalReduction>1</mechanicalReduction>
                </actuator>
            </transmission-->
  <!--CAMERA BOARD -->
  <link name="camera1">
    <visual>
      <origin rpy="0 0 0" xyz="0 0 0"/>
      <geometry>
        <box size="0.02 0.05 0.05"/>
      </geometry>
      <material name="Red">
        <color rgba=".8 .2 .1 1"/>
      </material>
    </visual>
    <collision>
      <origin rpy="0 0 0" xyz="0 0 0"/>
      <geometry>
        <box size="0.02 0.05 0.05"/>
      </geometry>
    </collision>
    <inertial>
      <mass value=".01"/>
      <inertia ixx=".003" ixy="0" ixz="0" iyy=".003" iyz="0" izz=".003"/>
    </inertial>
  </link>
  <joint name="camera1_joint" type="fixed">
    <parent link="main_body"/>
    <child link="camera1"/>
    <origin rpy="0 0 0" xyz="0.28 0.1 -0.07"/>
  </joint>
  <gazebo reference="camera1">
    <mu1> .2 </mu1>
    <mu2> .2 </mu2>
    <material> Gazebo/Red </material>
    <selfCollide> false </selfCollide>
  </gazebo>
  <!--CAMERA LENS -->
  <link name="camera1_lens">
    <visual>
      <origin rpy="0 1.57075 0" xyz="0.015 0 0"/>
      <geometry>
        <cylinder length="0.01" radius="0.018"/>
      </geometry>
      <material name="Black">
        <color rgba="0 0 0 1"/>
      </material>
    </visual>
    <collision>
      <origin rpy="0 1.57075 0" xyz="0.015 0 0"/>
      <geometry>
        <cylinder length="0.01" radius="0.018"/>
      </geometry>
    </collision>
    <inertial>
      <mass value=".01"/>
      <inertia ixx=".003" ixy="0" ixz="0" iyy=".003" iyz="0" izz=".003"/>
    </inertial>
  </link>
  <joint name="camera1_lens_joint" type="fixed">
    <parent link="main_body"/>
    <child link="camera1_lens"/>
    <origin rpy="0 0 0" xyz="0.28 0.1 -0.07"/>
  </joint>
  <gazebo reference="camera1_lens">
    <mu1> .2 </mu1>
    <mu2> .2 </mu2>
    <material> Gazebo/Black </material>
    <selfCollide> false </selfCollide>
  </gazebo>
  <gazebo reference="camera1">
    <sensor name="camera1" type="camera">
      <update_rate> 10.0 </update_rate>
      <camera name="{name}">
        <horizontal_fov>1.3962634</horizontal_fov>
        <image>
          <width>320</width>
          <height>240</height>
          <format>B8G8R8</format>
        </image>
        <clip>
          <near>0.02</near>
          <far>300</far>
        </clip>
        <noise>
          <type>gaussian</type>
          <mean>0.0</mean>
          <stddev>0.007</stddev>
        </noise>
      </camera>
      <plugin filename="libgazebo_ros_camera.so" name="camera_controller">
        <alwaysOn>True</alwaysOn>
        <updateRate>0.0</updateRate>
        <cameraName>rover_camera1</cameraName>
        <imageTopicName>image_raw</imageTopicName>
        <cameraInfoTopicName>camera_info</cameraInfoTopicName>
        <frameName>camera_link</frameName>
        <hackBaseline>0.07</hackBaseline>
        <distortionK1>0.0</distortionK1>
        <distortionK2>0.0</distortionK2>
        <distortionK3>0.0</distortionK3>
        <distortionT1>0.0</distortionT1>
        <distortionT2>0.0</distortionT2>
      </plugin>
    </sensor>
  </gazebo>
  <!--CAMERA BOARD -->
  <link name="camera2">
    <visual>
      <origin rpy="0 0 0" xyz="0 0 0"/>
      <geometry>
        <box size="0.02 0.05 0.05"/>
      </geometry>
      <material name="Red">
        <color rgba=".8 .2 .1 1"/>
      </material>
    </visual>
    <collision>
      <origin rpy="0 0 0" xyz="0 0 0"/>
      <geometry>
        <box size="0.02 0.05 0.05"/>
      </geometry>
    </collision>
    <inertial>
      <mass value=".01"/>
      <inertia ixx=".003" ixy="0" ixz="0" iyy=".003" iyz="0" izz=".003"/>
    </inertial>
  </link>
  <joint name="camera2_joint" type="fixed">
    <parent link="main_body"/>
    <child link="camera2"/>
    <origin rpy="0 0 0" xyz="0.28 -0.1 -0.07"/>
  </joint>
  <gazebo reference="camera2">
    <mu1> .2 </mu1>
    <mu2> .2 </mu2>
    <material> Gazebo/Red </material>
    <selfCollide> false </selfCollide>
  </gazebo>
  <!--CAMERA LENS -->
  <link name="camera2_lens">
    <visual>
      <origin rpy="0 1.57075 0" xyz="0.015 0 0"/>
      <geometry>
        <cylinder length="0.01" radius="0.018"/>
      </geometry>
      <material name="Black">
        <color rgba="0 0 0 1"/>
      </material>
    </visual>
    <collision>
      <origin rpy="0 1.57075 0" xyz="0.015 0 0"/>
      <geometry>
        <cylinder length="0.01" radius="0.018"/>
      </geometry>
    </collision>
    <inertial>
      <mass value=".01"/>
      <inertia ixx=".003" ixy="0" ixz="0" iyy=".003" iyz="0" izz=".003"/>
    </inertial>
  </link>
  <joint name="camera2_lens_joint" type="fixed">
    <parent link="main_body"/>
    <child link="camera2_lens"/>
    <origin rpy="0 0 0" xyz="0.28 -0.1 -0.07"/>
  </joint>
  <gazebo reference="camera2_lens">
    <mu1> .2 </mu1>
    <mu2> .2 </mu2>
    <material> Gazebo/Black </material>
    <selfCollide> false </selfCollide>
  </gazebo>
  <gazebo reference="camera2">
    <sensor name="camera2" type="camera">
      <update_rate> 10.0 </update_rate>
      <camera name="{name}">
        <horizontal_fov>1.3962634</horizontal_fov>
        <image>
          <width>320</width>
          <height>240</height>
          <format>B8G8R8</format>
        </image>
        <clip>
          <near>0.02</near>
          <far>300</far>
        </clip>
        <noise>
          <type>gaussian</type>
          <mean>0.0</mean>
          <stddev>0.007</stddev>
        </noise>
      </camera>
      <plugin filename="libgazebo_ros_camera.so" name="camera_controller">
        <alwaysOn>True</alwaysOn>
        <updateRate>0.0</updateRate>
        <cameraName>rover_camera2</cameraName>
        <imageTopicName>image_raw</imageTopicName>
        <cameraInfoTopicName>camera_info</cameraInfoTopicName>
        <frameName>camera_link</frameName>
        <hackBaseline>0.07</hackBaseline>
        <distortionK1>0.0</distortionK1>
        <distortionK2>0.0</distortionK2>
        <distortionK3>0.0</distortionK3>
        <distortionT1>0.0</distortionT1>
        <distortionT2>0.0</distortionT2>
      </plugin>
    </sensor>
  </gazebo>
  <!--CAMERA BOARD -->
  <link name="camera3">
    <visual>
      <origin rpy="0 0 0" xyz="0 0 0"/>
      <geometry>
        <box size="0.02 0.05 0.05"/>
      </geometry>
      <material name="Red">
        <color rgba=".8 .2 .1 1"/>
      </material>
    </visual>
    <collision>
      <origin rpy="0 0 0" xyz="0 0 0"/>
      <geometry>
        <box size="0.02 0.05 0.05"/>
      </geometry>
    </collision>
    <inertial>
      <mass value=".01"/>
      <inertia ixx=".003" ixy="0" ixz="0" iyy=".003" iyz="0" izz=".003"/>
    </inertial>
  </link>
  <joint name="camera3_joint" type="fixed">
    <parent link="tower_pitch"/>
    <child link="camera3"/>
    <origin rpy="0 0 0" xyz="0.06 0 0"/>
  </joint>
  <gazebo reference="camera3">
    <mu1> .2 </mu1>
    <mu2> .2 </mu2>
    <material> Gazebo/Red </material>
    <selfCollide> false </selfCollide>
  </gazebo>
  <!--CAMERA LENS -->
  <link name="camera3_lens">
    <visual>
      <origin rpy="0 1.57075 0" xyz="0.015 0 0"/>
      <geometry>
        <cylinder length="0.01" radius="0.018"/>
      </geometry>
      <material name="Black">
        <color rgba="0 0 0 1"/>
      </material>
    </visual>
    <collision>
      <origin rpy="0 1.57075 0" xyz="0.015 0 0"/>
      <geometry>
        <cylinder length="0.01" radius="0.018"/>
      </geometry>
    </collision>
    <inertial>
      <mass value=".01"/>
      <inertia ixx=".003" ixy="0" ixz="0" iyy=".003" iyz="0" izz=".003"/>
    </inertial>
  </link>
  <joint name="camera3_lens_joint" type="fixed">
    <parent link="tower_pitch"/>
    <child link="camera3_lens"/>
    <origin rpy="0 0 0" xyz="0.06 0 0"/>
  </joint>
  <gazebo reference="camera3_lens">
    <mu1> .2 </mu1>
    <mu2> .2 </mu2>
    <material> Gazebo/Black </material>
    <selfCollide> false </selfCollide>
  </gazebo>
  <gazebo reference="camera3">
    <sensor name="camera3" type="camera">
      <update_rate> 10.0 </update_rate>
      <camera name="{name}">
        <horizontal_fov>1.3962634</horizontal_fov>
        <image>
          <width>320</width>
          <height>240</height>
          <format>B8G8R8</format>
        </image>
        <clip>
          <near>0.02</near>
          <far>300</far>
        </clip>
        <noise>
          <type>gaussian</type>
          <mean>0.0</mean>
          <stddev>0.007</stddev>
        </noise>
      </camera>
      <plugin filename="libgazebo_ros_camera.so" name="camera_controller">
        <alwaysOn>True</alwaysOn>
        <updateRate>0.0</updateRate>
        <cameraName>rover_camera3</cameraName>
        <imageTopicName>image_raw</imageTopicName>
        <cameraInfoTopicName>camera_info</cameraInfoTopicName>
        <frameName>camera_link</frameName>
        <hackBaseline>0.07</hackBaseline>
        <distortionK1>0.0</distortionK1>
        <distortionK2>0.0</distortionK2>
        <distortionK3>0.0</distortionK3>
        <distortionT1>0.0</distortionT1>
        <distortionT2>0.0</distortionT2>
      </plugin>
    </sensor>
  </gazebo>
  <!-- LINK -->
  <link name="link0">
    <visual>
      <origin rpy="0 0 0" xyz="0 0 0"/>
      <geometry>
        <cylinder length="0.05" radius="0.1"/>
      </geometry>
      <material name="blue">
        <color rgba=".2 .2 .5 1"/>
      </material>
    </visual>
    <visual>
      <origin rpy="1.57075 0 0" xyz="0 0 0.025"/>
      <geometry>
        <cylinder length="0.1" radius="0.07"/>
      </geometry>
      <material name="blue">
        <color rgba=".2 .2 .5 1"/>
      </material>
    </visual>
    <collision>
      <origin rpy="0 0 0" xyz="0 0 0"/>
      <geometry>
        <cylinder length="0.05" radius="0.1"/>
      </geometry>
    </collision>
    <collision>
      <origin rpy="1.57075 0 0" xyz="0 0 0.025"/>
      <geometry>
        <cylinder length="0.1" radius="0.07"/>
      </geometry>
    </collision>
    <inertial>
      <mass value="1"/>
      <inertia ixx=".003" ixy=".00" ixz=".00" iyy=".003" iyz=".00" izz=".003"/>
    </inertial>
  </link>
  <gazebo reference="link0">
    <mu1> .2 </mu1>
    <mu2> .2 </mu2>
    <material> Gazebo/Orange </material>
    <selfCollide> False </selfCollide>
    <implicitSpringDamper> True </implicitSpringDamper>
  </gazebo>
  <!-- JOINT -->
  <joint name="link0_joint" type="revolute">
    <parent link="main_body"/>
    <child link="link0"/>
    <origin rpy="0 0 0" xyz="0.15 0 0.125"/>
    <axis xyz="0 0 -1"/>
    <limit effort="100" lower="-3.14" upper="3.14" velocity="1"/>
    <dynamics damping="1"/>
  </joint>
  <!--gazebo reference="${name}_joint">
            <stopCfm>0.8</stopCfm>
            <stopErp>0.5</stopErp>
            <provideFeedback>true</provideFeedback>
            <implicitSpringDamper>true</implicitSpringDamper>
            <fudgeFactor>0.0</fudgeFactor>
        </gazebo-->
  <gazebo>
    <plugin filename="libJointLimiter.so" name="link0_joint_limiter">
      <joint>link0_joint</joint>
      <topic>/rover/link0_velocity_controller</topic>
      <lower>-3.14</lower>
      <upper>3.14</upper>
    </plugin>
  </gazebo>
  <gazebo>
    <plugin filename="libControllerPID.so" name="link0_controller">
      <joint>link0_joint</joint>
      <topic>/rover/link0_velocity_controller</topic>
      <Kp>20</Kp>
      <Ki>2</Ki>
      <Kd>1</Kd>
    </plugin>
  </gazebo>
  <!-- TRANSMISSION -->
  <!--transmission name="${name}_transmission">
            <type>transmission_interface/SimpleTransmission</type>
            <joint name="${name}_joint">
                <hardwareInterface>EffortJointInterface</hardwareInterface>
            </joint>
            <actuator name="${name}_motor">
                <hardwareInterface>EffortJointInterface</hardwareInterface>
                <mechanicalReduction>1</mechanicalReduction>
            </actuator>
        </transmission-->
  <link name="link1">
    <visual>
      <origin rpy="0 0 0" xyz="-0.25 0 0"/>
      <geometry>
        <box size="0.5 0.07 0.07"/>
      </geometry>
      <material name="light_blue">
        <color rgba=".3 .3 .6 1"/>
      </material>
    </visual>
    <visual>
      <origin rpy="1.57075 0 0" xyz="-0.5 0 0.035"/>
      <geometry>
        <cylinder length="0.07" radius="0.07"/>
      </geometry>
      <material name="light_blue">
        <color rgba=".3 .3 .6 1"/>
      </material>
    </visual>
    <collision>
      <origin rpy="0 0 0" xyz="-0.25 0 0"/>
      <geometry>
        <box size="0.5 0.07 0.07"/>
      </geometry>
    </collision>
    <collision>
      <origin rpy="1.57075 0 0" xyz="-0.5 0 0.035"/>
      <geometry>
        <cylinder length="0.07" radius="0.07"/>
      </geometry>
    </collision>
    <inertial>
      <origin rpy="0 0 0" xyz="-0.25 0 0"/>
      <mass value="1"/>
      <inertia ixx=".003" ixy="0.000" ixz="0.000" iyy=".003" iyz="0.000" izz=".003"/>
    </inertial>
  </link>
  <gazebo reference="link1">
    <mu1> .2 </mu1>
    <mu2> .2 </mu2>
    <material> Gazebo/Blue </material>
    <selfCollide>False</selfCollide>
  </gazebo>
  <joint name="link1_joint" type="revolute">
    <parent link="link0"/>
    <child link="link1"/>
    <origin rpy="0 0 0" xyz="0 0 0.06"/>
    <axis xyz="0 1 0"/>
    <limit effort="100" lower="0" upper="3.14" velocity="1"/>
    <dynamics damping="1"/>
  </joint>
  <!--gazebo reference="${name}_joint">
            <stopCfm>0.5</stopCfm>
            <stopErp>0.8</stopErp>
            <provideFeedback>true</provideFeedback>
            <implicitSpringDamper>true</implicitSpringDamper>
            <fudgeFactor>0.0</fudgeFactor>
        </gazebo-->
  <gazebo>
    <plugin filename="libJointLimiter.so" name="link1_joint_limiter">
      <joint>link1_joint</joint>
      <topic>/rover/link1_velocity_controller</topic>
      <lower>0</lower>
      <upper>3.14</upper>
    </plugin>
  </gazebo>
  <gazebo>
    <plugin filename="libControllerPID.so" name="link1_controller">
      <joint>link1_joint</joint>
      <topic>/rover/link1_velocity_controller</topic>
      <Kp>30</Kp>
      <Ki>3</Ki>
      <Kd>2</Kd>
    </plugin>
  </gazebo>
  <!--transmission name="${name}_transmission">
            <type>transmission_interface/SimpleTransmission</type>
            <joint name="${name}_joint">
                <hardwareInterface>EffortJointInterface</hardwareInterface>
            </joint>
            <actuator name="${name}_motor">
                <hardwareInterface>EffortJointInterface</hardwareInterface>
                <mechanicalReduction>1</mechanicalReduction>
            </actuator>
        </transmission-->
  <link name="link2">
    <visual>
      <origin rpy="0 0 0" xyz="0.125 0 0.025"/>
      <geometry>
        <box size="0.25 0.05 0.05"/>
      </geometry>
      <material name="link2_color">
        <color rgba=".4 .4 .8 1"/>
      </material>
    </visual>
    <visual>
      <origin rpy="1.57075 0 0" xyz="0.25 0 0.025"/>
      <geometry>
        <cylinder length="0.05" radius="0.025"/>
      </geometry>
      <material name="link2_color">
        <color rgba=".4 .4 .8 1"/>
      </material>
    </visual>
    <collision>
      <origin rpy="0 0 0" xyz="0.125 0 0.025"/>
      <geometry>
        <box size="0.25 0.05 0.05"/>
      </geometry>
    </collision>
    <collision>
      <origin rpy="1.57075 0 0" xyz="0.25 0 0.025"/>
      <geometry>
        <cylinder length="0.05" radius="0.025"/>
      </geometry>
    </collision>
    <inertial>
      <origin rpy="0 0 0" xyz="0.125 0 0.025"/>
      <mass value="1"/>
      <inertia ixx=".003" ixy="0.000" ixz="0.000" iyy=".003" iyz="0.000" izz=".003"/>
    </inertial>
  </link>
  <gazebo reference="link2">
    <mu1> .2 </mu1>
    <mu2> .2 </mu2>
    <material> Gazebo/Blue </material>
    <selfCollide>False</selfCollide>
  </gazebo>
  <joint name="link2_joint" type="revolute">
    <parent link="link1"/>
    <child link="link2"/>
    <origin rpy="0 0 0" xyz="-0.5 0 0.035"/>
    <axis xyz="0 -1 0"/>
    <limit effort="100" lower="0" upper="5" velocity="1"/>
    <dynamics damping="10"/>
  </joint>
  <!--gazebo reference="${name}_joint">
            <stopCfm>0.8</stopCfm>
            <stopErp>0.5</stopErp>
            <provideFeedback>true</provideFeedback>
            <implicitSpringDamper>true</implicitSpringDamper>
            <fudgeFactor>0.0</fudgeFactor>
        </gazebo-->
  <gazebo>
    <plugin filename="libJointLimiter.so" name="link2_joint_limiter">
      <joint>link2_joint</joint>
      <topic>/rover/link2_velocity_controller</topic>
      <lower>0</lower>
      <upper>5</upper>
    </plugin>
  </gazebo>
  <gazebo>
    <plugin filename="libControllerPID.so" name="link2_controller">
      <joint>link2_joint</joint>
      <topic>/rover/link2_velocity_controller</topic>
      <Kp>30</Kp>
      <Ki>3</Ki>
      <Kd>2</Kd>
    </plugin>
  </gazebo>
  <!--transmission name="${name}_transmission">
            <type>transmission_interface/SimpleTransmission</type>
            <joint name="${name}_joint">
                <hardwareInterface>EffortJointInterface</hardwareInterface>
            </joint>
            <actuator name="${name}_motor">
                <hardwareInterface>EffortJointInterface</hardwareInterface>
                <mechanicalReduction>1</mechanicalReduction>
            </actuator>
        </transmission-->
  <link name="link3">
    <visual>
      <origin rpy="0 0 0" xyz="0.125 0 0"/>
      <geometry>
        <box size="0.25 0.04 0.04"/>
      </geometry>
      <material name="link3_color">
        <color rgba=".4 .4 .8 1"/>
      </material>
    </visual>
    <collision>
      <origin rpy="0 0 0" xyz="0.125 0 0"/>
      <geometry>
        <box size="0.25 0.04 0.04"/>
      </geometry>
    </collision>
    <inertial>
      <origin rpy="0 0 0" xyz="0.125 0 0.02"/>
      <mass value="1"/>
      <inertia ixx=".003" ixy="0.000" ixz="0.000" iyy=".003" iyz="0.000" izz=".003"/>
    </inertial>
  </link>
  <gazebo reference="link3">
    <mu1> .2 </mu1>
    <mu2> .2 </mu2>
    <material> Gazebo/Blue </material>
    <selfCollide>False</selfCollide>
  </gazebo>
  <joint name="link3_joint" type="revolute">
    <parent link="link2"/>
    <child link="link3"/>
    <origin rpy="0 0 0" xyz="0.25 0 0.025"/>
    <axis xyz="0 -1 0"/>
    <limit effort="30" lower="-3.14" upper="3.14" velocity="1"/>
    <dynamics damping="10"/>
  </joint>
  <!--gazebo reference="${name}_joint">
            <stopCfm>0.8</stopCfm>
            <stopErp>0.5</stopErp>
            <provideFeedback>true</provideFeedback>
            <implicitSpringDamper>true</implicitSpringDamper>
            <fudgeFactor>0.0</fudgeFactor>
        </gazebo-->
  <gazebo>
    <plugin filename="libJointLimiter.so" name="link3_joint_limiter">
      <joint>link3_joint</joint>
      <topic>/rover/link3_velocity_controller</topic>
      <lower>-3.14</lower>
      <upper>3.14</upper>
    </plugin>
  </gazebo>
  <gazebo>
    <plugin filename="libControllerPID.so" name="link3_controller">
      <joint>link3_joint</joint>
      <topic>/rover/link3_velocity_controller</topic>
      <Kp>20</Kp>
      <Ki>0</Ki>
      <Kd>2</Kd>
    </plugin>
  </gazebo>
  <gazebo reference="link3">
    <mu1> .2 </mu1>
    <mu2> .2 </mu2>
    <material> Gazebo/Blue </material>
    <selfCollide>True</selfCollide>
    <!--kp>1.0</kp>
            <kd>1.0</kd>
            <stopCfm>0.8</stopCfm>
            <stopErp>0.5</stopErp>
            <provideFeedback>true</provideFeedback>
            <cfmDamping>true</cfmDamping>
            <fudgeFactor>0.0</fudgeFactor-->
  </gazebo>
  <!--transmission name="${name}_transmission">
            <type>transmission_interface/SimpleTransmission</type>
            <joint name="${name}_joint">
                <hardwareInterface>EffortJointInterface</hardwareInterface>
            </joint>
            <actuator name="${name}_motor">
                <hardwareInterface>EffortJointInterface</hardwareInterface>
                <mechanicalReduction>1</mechanicalReduction>
            </actuator>
        </transmission-->
  <link name="link4">
    <visual>
      <origin rpy="0 0 0" xyz="0.025 0 0"/>
      <geometry>
        <box size="0.05 0.2 0.05"/>
      </geometry>
      <material name="link4_color">
        <color rgba=".4 .4 .8 1"/>
      </material>
    </visual>
    <collision>
      <origin rpy="0 0 0" xyz="0.025 0 0"/>
      <geometry>
        <box size="0.05 0.2 0.05"/>
      </geometry>
    </collision>
    <inertial>
      <origin rpy="0 0 0" xyz="0.025 0 0.025"/>
      <mass value="1"/>
      <inertia ixx=".003" ixy="0.000" ixz="0.000" iyy=".003" iyz="0.000" izz=".003"/>
    </inertial>
  </link>
  <gazebo reference="link4">
    <mu1> .2 </mu1>
    <mu2> .2 </mu2>
    <material> Gazebo/Blue </material>
    <selfCollide>False</selfCollide>
  </gazebo>
  <joint name="link4_joint" type="revolute">
    <parent link="link3"/>
    <child link="link4"/>
    <origin rpy="0 0 0" xyz="0.25 0 0"/>
    <axis xyz="1 0 0"/>
    <limit effort="40" lower="-3.14" upper="3.14" velocity="3"/>
    <dynamics damping="1"/>
  </joint>
  <!--gazebo reference="${name}_joint">
            <stopCfm>0.8</stopCfm>
            <stopErp>0.5</stopErp>
            <provideFeedback>true</provideFeedback>
            <implicitSpringDamper>true</implicitSpringDamper>
            <fudgeFactor>0.0</fudgeFactor>
        </gazebo-->
  <gazebo>
    <plugin filename="libJointLimiter.so" name="link4_joint_limiter">
      <joint>link4_joint</joint>
      <topic>/rover/link4_velocity_controller</topic>
      <lower>-3.14</lower>
      <upper>3.14</upper>
    </plugin>
  </gazebo>
  <gazebo>
    <plugin filename="libControllerPID.so" name="link4_controller">
      <joint>link4_joint</joint>
      <topic>/rover/link4_velocity_controller</topic>
      <Kp>1.05</Kp>
      <Ki>0</Ki>
      <Kd>0.02</Kd>
    </plugin>
  </gazebo>
  <gazebo reference="link4">
    <mu1> .2 </mu1>
    <mu2> .2 </mu2>
    <material> Gazebo/Yellow </material>
    <selfCollide>True</selfCollide>
    <!--kp>1.0</kp>
            <kd>1.0</kd>
            <stopCfm>0.8</stopCfm>
            <stopErp>0.5</stopErp>
            <provideFeedback>true</provideFeedback>
            <cfmDamping>true</cfmDamping>
            <fudgeFactor>0.0</fudgeFactor-->
  </gazebo>
  <!--transmission name="${name}_transmission">
            <type>transmission_interface/SimpleTransmission</type>
            <joint name="${name}_joint">
                <hardwareInterface>EffortJointInterface</hardwareInterface>
            </joint>
            <actuator name="${name}_motor">
                <hardwareInterface>EffortJointInterface</hardwareInterface>
                <mechanicalReduction>1</mechanicalReduction>
            </actuator>
        </transmission-->
  <link name="finger1">
    <visual>
      <origin rpy="0 0 0" xyz="0 0 0"/>
      <geometry>
        <box size="0.2 0.02 0.03"/>
      </geometry>
      <material name="finger_color">
        <color rgba=".4 .4 .8 1"/>
      </material>
    </visual>
    <visual>
      <origin rpy="1.57075 0 0" xyz="0.1 0 0"/>
      <geometry>
        <cylinder length="0.02" radius="0.015"/>
      </geometry>
      <material name="finger_color">
        <color rgba=".4 .4 .8 1"/>
      </material>
    </visual>
    <collision>
      <origin rpy="0 0 0" xyz="0 0 0"/>
      <geometry>
        <box size="0.2 0.02 0.03"/>
      </geometry>
    </collision>
    <collision>
      <origin rpy="1.57075 0 0" xyz="0.1 0 0"/>
      <geometry>
        <cylinder length="0.02" radius="0.015"/>
      </geometry>
    </collision>
    <inertial>
      <origin rpy="0 0 0" xyz="0 0 0"/>
      <mass value=".1"/>
      <inertia ixx=".0003" ixy="0.000" ixz="0.000" iyy=".0003" iyz="0.000" izz=".0003"/>
    </inertial>
  </link>
  <gazebo reference="finger1">
    <mu1> 1.0 </mu1>
    <mu2> 1.0 </mu2>
    <material> Gazebo/Yellow </material>
    <selfCollide>False</selfCollide>
  </gazebo>
  <joint name="finger1_joint" type="prismatic">
    <parent link="link4"/>
    <child link="finger1"/>
    <origin rpy="0 0 0" xyz="0.15 0.09 0"/>
    <axis xyz="0 -1 0"/>
    <limit effort="40" lower="0" upper="0.08" velocity="1"/>
    <dynamics damping=".1"/>
  </joint>
  <!--gazebo reference="${name}_joint">
            <stopCfm>0.8</stopCfm>
            <stopErp>0.5</stopErp>
            <provideFeedback>true</provideFeedback>
            <implicitSpringDamper>true</implicitSpringDamper>
            <fudgeFactor>0.0</fudgeFactor>
        </gazebo-->
  <gazebo>
    <plugin filename="libJointLimiter.so" name="finger1_joint_limiter">
      <joint>finger1_joint</joint>
      <topic>/rover/finger1_velocity_controller</topic>
      <lower>0</lower>
      <upper>0.08</upper>
    </plugin>
  </gazebo>
  <gazebo>
    <plugin filename="libControllerPID.so" name="finger1_controller">
      <joint>finger1_joint</joint>
      <topic>/rover/finger1_velocity_controller</topic>
      <Kp>10</Kp>
      <Ki>0</Ki>
      <Kd>5</Kd>
    </plugin>
  </gazebo>
  <!--transmission name="${name}_transmission">
            <type>transmission_interface/SimpleTransmission</type>
            <joint name="${name}_joint">
                <hardwareInterface>EffortJointInterface</hardwareInterface>
            </joint>
            <actuator name="${name}_motor">
                <hardwareInterface>EffortJointInterface</hardwareInterface>
                <mechanicalReduction>1</mechanicalReduction>
            </actuator>
        </transmission-->
  <link name="finger2">
    <visual>
      <origin rpy="0 0 0" xyz="0 0 0"/>
      <geometry>
        <box size="0.2 0.02 0.03"/>
      </geometry>
      <material name="finger_color">
        <color rgba=".4 .4 .8 1"/>
      </material>
    </visual>
    <visual>
      <origin rpy="1.57075 0 0" xyz="0.1 0 0"/>
      <geometry>
        <cylinder length="0.02" radius="0.015"/>
      </geometry>
      <material name="finger_color">
        <color rgba=".4 .4 .8 1"/>
      </material>
    </visual>
    <collision>
      <origin rpy="0 0 0" xyz="0 0 0"/>
      <geometry>
        <box size="0.2 0.02 0.03"/>
      </geometry>
    </collision>
    <collision>
      <origin rpy="1.57075 0 0" xyz="0.1 0 0"/>
      <geometry>
        <cylinder length="0.02" radius="0.015"/>
      </geometry>
    </collision>
    <inertial>
      <origin rpy="0 0 0" xyz="0 0 0"/>
      <mass value=".1"/>
      <inertia ixx=".0003" ixy="0.000" ixz="0.000" iyy=".0003" iyz="0.000" izz=".0003"/>
    </inertial>
  </link>
  <gazebo reference="finger2">
    <mu1> 1.0 </mu1>
    <mu2> 1.0 </mu2>
    <material> Gazebo/Yellow </material>
    <selfCollide>False</selfCollide>
  </gazebo>
  <joint name="finger2_joint" type="prismatic">
    <parent link="link4"/>
    <child link="finger2"/>
    <origin rpy="0 0 0" xyz="0.15 -0.09 0"/>
    <axis xyz="0 1 0"/>
    <limit effort="40" lower="0" upper="0.08" velocity="1"/>
    <dynamics damping=".1"/>
  </joint>
  <!--gazebo reference="${name}_joint">
            <stopCfm>0.8</stopCfm>
            <stopErp>0.5</stopErp>
            <provideFeedback>true</provideFeedback>
            <implicitSpringDamper>true</implicitSpringDamper>
            <fudgeFactor>0.0</fudgeFactor>
        </gazebo-->
  <gazebo>
    <plugin filename="libJointLimiter.so" name="finger2_joint_limiter">
      <joint>finger2_joint</joint>
      <topic>/rover/finger2_velocity_controller</topic>
      <lower>0</lower>
      <upper>0.08</upper>
    </plugin>
  </gazebo>
  <gazebo>
    <plugin filename="libControllerPID.so" name="finger2_controller">
      <joint>finger2_joint</joint>
      <topic>/rover/finger2_velocity_controller</topic>
      <Kp>10</Kp>
      <Ki>0</Ki>
      <Kd>5</Kd>
    </plugin>
  </gazebo>
  <!--transmission name="${name}_transmission">
            <type>transmission_interface/SimpleTransmission</type>
            <joint name="${name}_joint">
                <hardwareInterface>EffortJointInterface</hardwareInterface>
            </joint>
            <actuator name="${name}_motor">
                <hardwareInterface>EffortJointInterface</hardwareInterface>
                <mechanicalReduction>1</mechanicalReduction>
            </actuator>
        </transmission-->
  <!--CAMERA BOARD -->
  <link name="camera4">
    <visual>
      <origin rpy="0 0 0" xyz="0 0 0"/>
      <geometry>
        <box size="0.02 0.05 0.05"/>
      </geometry>
      <material name="Red">
        <color rgba=".8 .2 .1 1"/>
      </material>
    </visual>
    <collision>
      <origin rpy="0 0 0" xyz="0 0 0"/>
      <geometry>
        <box size="0.02 0.05 0.05"/>
      </geometry>
    </collision>
    <inertial>
      <mass value=".01"/>
      <inertia ixx=".003" ixy="0" ixz="0" iyy=".003" iyz="0" izz=".003"/>
    </inertial>
  </link>
  <joint name="camera4_joint" type="fixed">
    <parent link="link3"/>
    <child link="camera4"/>
    <origin rpy="0 0 0" xyz="0.15 0 0.1"/>
  </joint>
  <gazebo reference="camera4">
    <mu1> .2 </mu1>
    <mu2> .2 </mu2>
    <material> Gazebo/Red </material>
    <selfCollide> false </selfCollide>
  </gazebo>
  <!--CAMERA LENS -->
  <link name="camera4_lens">
    <visual>
      <origin rpy="0 1.57075 0" xyz="0.015 0 0"/>
      <geometry>
        <cylinder length="0.01" radius="0.018"/>
      </geometry>
      <material name="Black">
        <color rgba="0 0 0 1"/>
      </material>
    </visual>
    <collision>
      <origin rpy="0 1.57075 0" xyz="0.015 0 0"/>
      <geometry>
        <cylinder length="0.01" radius="0.018"/>
      </geometry>
    </collision>
    <inertial>
      <mass value=".01"/>
      <inertia ixx=".003" ixy="0" ixz="0" iyy=".003" iyz="0" izz=".003"/>
    </inertial>
  </link>
  <joint name="camera4_lens_joint" type="fixed">
    <parent link="link3"/>
    <child link="camera4_lens"/>
    <origin rpy="0 0 0" xyz="0.15 0 0.1"/>
  </joint>
  <gazebo reference="camera4_lens">
    <mu1> .2 </mu1>
    <mu2> .2 </mu2>
    <material> Gazebo/Black </material>
    <selfCollide> false </selfCollide>
  </gazebo>
  <gazebo reference="camera4">
    <sensor name="camera4" type="camera">
      <update_rate> 10.0 </update_rate>
      <camera name="{name}">
        <horizontal_fov>1.3962634</horizontal_fov>
        <image>
          <width>320</width>
          <height>240</height>
          <format>B8G8R8</format>
        </image>
        <clip>
          <near>0.02</near>
          <far>300</far>
        </clip>
        <noise>
          <type>gaussian</type>
          <mean>0.0</mean>
          <stddev>0.007</stddev>
        </noise>
      </camera>
      <plugin filename="libgazebo_ros_camera.so" name="camera_controller">
        <alwaysOn>True</alwaysOn>
        <updateRate>0.0</updateRate>
        <cameraName>rover_camera4</cameraName>
        <imageTopicName>image_raw</imageTopicName>
        <cameraInfoTopicName>camera_info</cameraInfoTopicName>
        <frameName>camera_link</frameName>
        <hackBaseline>0.07</hackBaseline>
        <distortionK1>0.0</distortionK1>
        <distortionK2>0.0</distortionK2>
        <distortionK3>0.0</distortionK3>
        <distortionT1>0.0</distortionT1>
        <distortionT2>0.0</distortionT2>
      </plugin>
    </sensor>
  </gazebo>
</robot>
